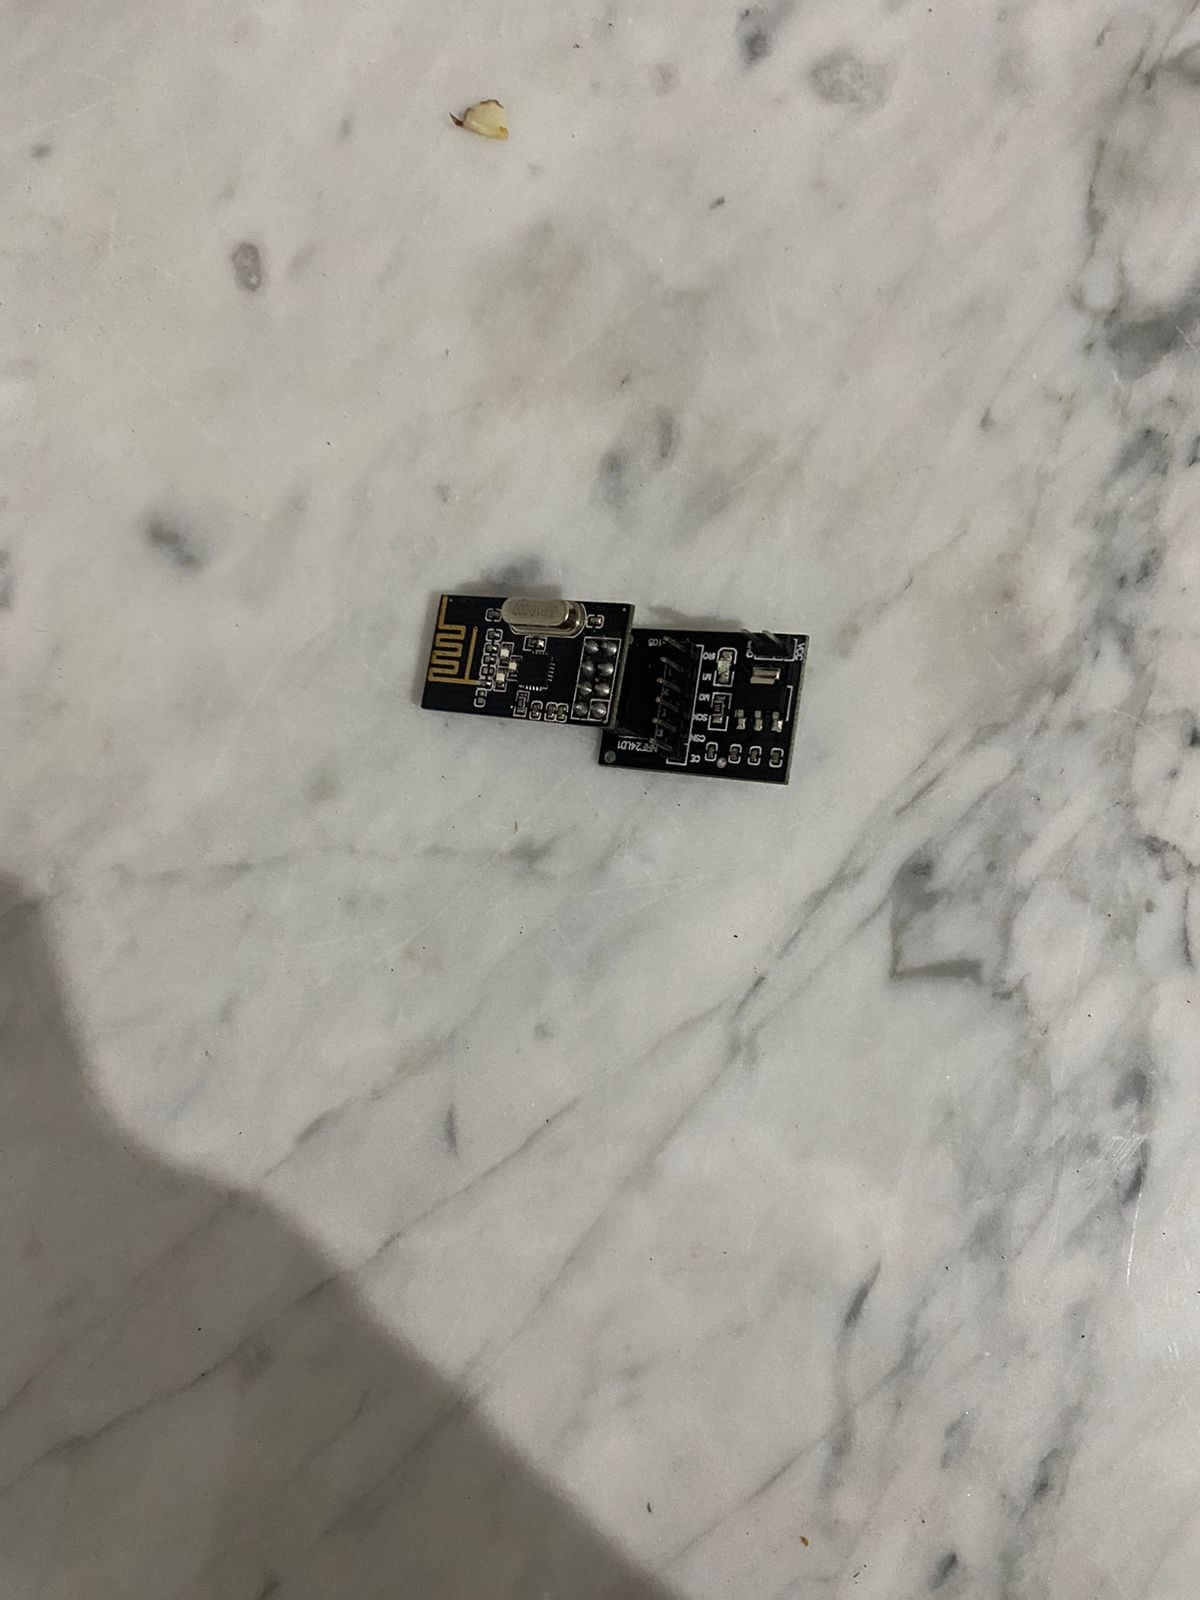RF-module: (392, 577, 812, 792)
